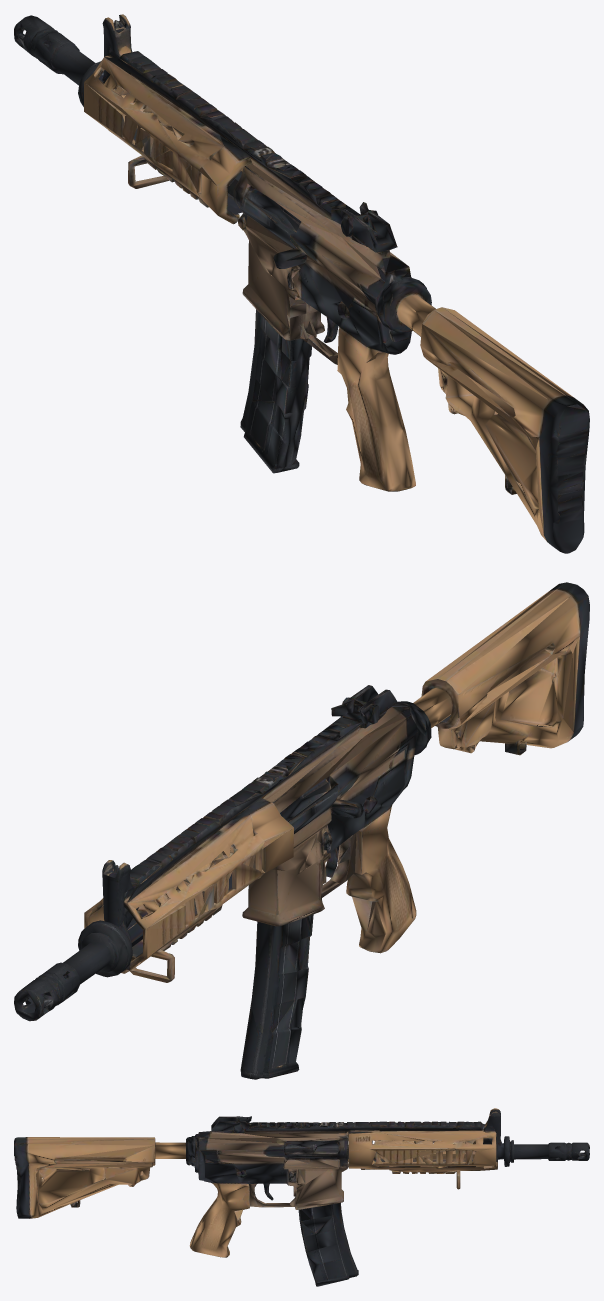
Rendered from ar_moraine.glb.
The picture shows the model from 3 angles, top to bottom: view 1: azimuth 30°, elevation 25°; view 2: azimuth 150°, elevation 25°; view 3: azimuth 270°, elevation 25°; orthographic projection. The views are drawn at different scales.
Visible parts, largest first — view 1: ar_moraine; view 2: ar_moraine; view 3: ar_moraine.
Boxes of the visible parts, x1,y1,x2,y2 form: ar_moraine: (14,14,589,553); ar_moraine: (14,582,589,1079); ar_moraine: (14,1108,589,1286).
Bounding box in the file's own units: 0.0848 × 0.3263 × 0.98.
1 material, 1 textured.
